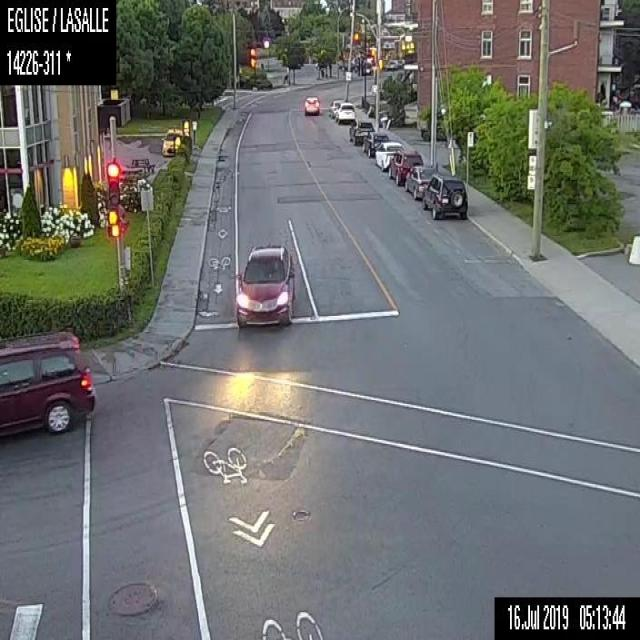vehicle: (0, 329, 95, 437), (234, 241, 296, 327), (421, 173, 468, 220), (402, 164, 438, 199), (388, 149, 422, 181), (374, 141, 404, 168), (160, 125, 186, 156), (362, 130, 389, 155), (348, 119, 374, 142), (304, 93, 320, 116), (335, 102, 355, 120), (328, 98, 343, 115)
